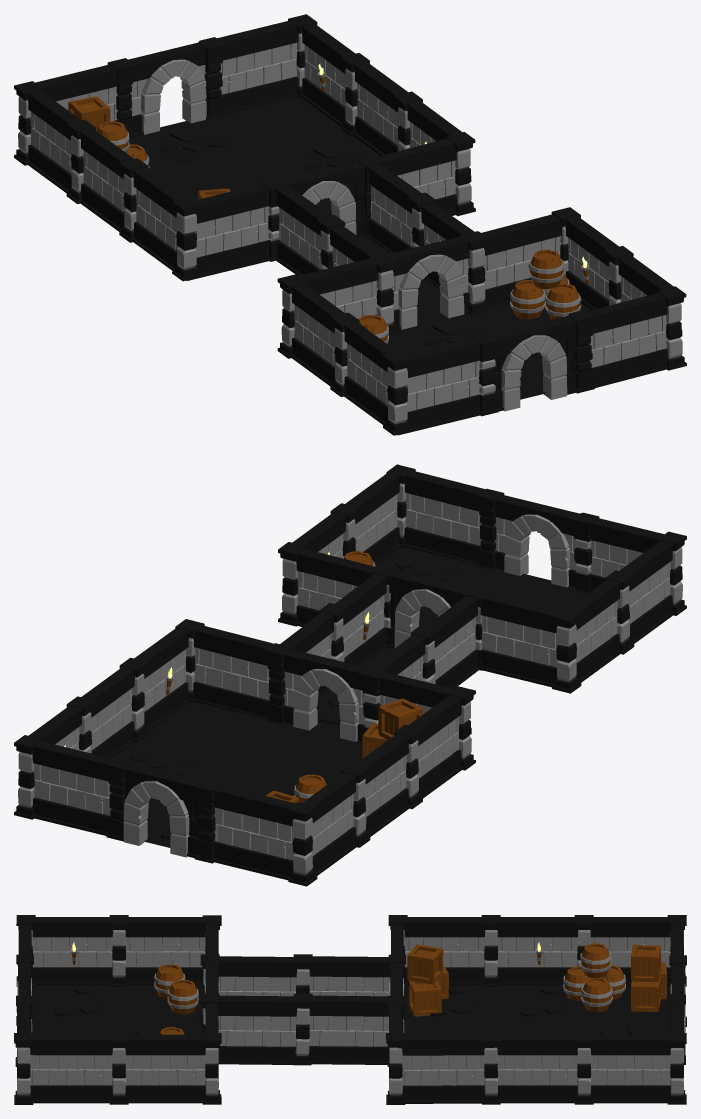
3 views of the same model, one above another, from view 1: azimuth 30°, elevation 25°; view 2: azimuth 150°, elevation 25°; view 3: azimuth 270°, elevation 25° (orthographic). The views are drawn at different scales.
Visible parts, largest first — view 1: Cube003_1 (×18), Cube003_2 (×17), Plane021_1 (×3), Cube004_1 (×3), Cube006_1 (×2), Cube004_2 (×3), Cube006, Cube006_2 (×2), Plane007, Cube010_2, Plane009, Cylinder003_1 (×3) (+9 smaller); view 2: Cube003_1 (×18), Cube003_2 (×16), Cube004_1 (×3), Cube004_2 (×3), Cube006, Cube006_1 (×2), Plane010, Plane011, Plane021_1 (×3), Plane012, Plane009, Plane021 (+8 smaller); view 3: Cube003_1 (×18), Cube003_2 (×15), Plane022_1 (×2), Cylinder003_1 (×6), Plane022, Cube003_Photo1, Plane005, Plane021_1 (×2), Cube004_1 (×3), Plane, Cube006_1 (×2), Crate008 (+10 smaller).
Part boxes in pixels (x1=…): Cube003_1 (×18): x1=14, y1=14, x2=686, y2=435; Cube003_2 (×17): x1=18, y1=33, x2=682, y2=424; Plane021_1 (×3): x1=128, y1=118, x2=505, y2=352; Cube004_1 (×3): x1=107, y1=42, x2=595, y2=411; Cube006_1 (×2): x1=187, y1=178, x2=498, y2=435; Cube004_2 (×3): x1=130, y1=59, x2=567, y2=411; Cube006: x1=217, y1=20, x2=299, y2=114; Cube006_2 (×2): x1=195, y1=206, x2=495, y2=411; Plane007: x1=216, y1=97, x2=345, y2=153; Cube010_2: x1=392, y1=254, x2=469, y2=329; Plane009: x1=173, y1=153, x2=294, y2=193; Cylinder003_1 (×3): x1=511, y1=249, x2=579, y2=319; Cube003_1 (×18): x1=14, y1=464, x2=686, y2=886; Cube003_2 (×16): x1=18, y1=483, x2=682, y2=874; Cube004_1 (×3): x1=124, y1=488, x2=579, y2=863; Cube004_2 (×3): x1=123, y1=514, x2=577, y2=857; Cube006: x1=32, y1=741, x2=113, y2=835; Cube006_1 (×2): x1=360, y1=512, x2=664, y2=744; Plane010: x1=226, y1=723, x2=362, y2=776; Plane011: x1=144, y1=702, x2=273, y2=758; Plane021_1 (×3): x1=112, y1=689, x2=340, y2=847; Plane012: x1=461, y1=568, x2=575, y2=608; Plane009: x1=197, y1=758, x2=300, y2=796; Plane021: x1=375, y1=547, x2=484, y2=586; Cube003_1 (×18): x1=14, y1=915, x2=686, y2=1104; Cube003_2 (×15): x1=17, y1=930, x2=683, y2=1095; Plane022_1 (×2): x1=404, y1=985, x2=583, y2=1021; Cylinder003_1 (×6): x1=155, y1=943, x2=624, y2=1014; Plane022: x1=32, y1=985, x2=118, y2=1021; Cube003_Photo1: x1=497, y1=1048, x2=590, y2=1095; Plane005: x1=119, y1=985, x2=202, y2=1021; Plane021_1 (×2): x1=119, y1=1022, x2=670, y2=1034; Cube004_1 (×3): x1=15, y1=955, x2=686, y2=1066; Plane: x1=584, y1=985, x2=670, y2=1021; Cube006_1 (×2): x1=16, y1=925, x2=405, y2=1025; Crate008: x1=407, y1=944, x2=443, y2=984.
Size of the model in its own units: 12.83 by 3.16 by 28.94.
